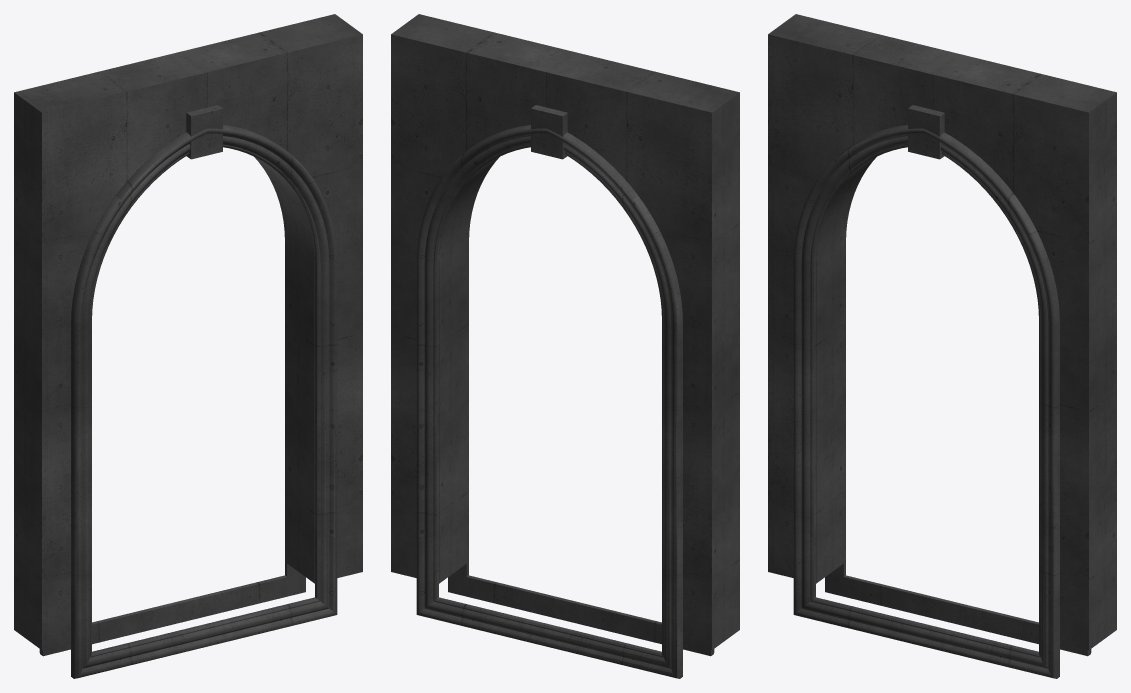
Rendered from Wall_Arch.gltf.
3 views of the same model, side by side, from view 1: azimuth 30°, elevation 25°; view 2: azimuth 150°, elevation 25°; view 3: azimuth 330°, elevation 25° (orthographic).
Parts seen in each view (by area): view 1: Wall_Arch_Wall, Wall_Arch_Trim; view 2: Wall_Arch_Wall, Wall_Arch_Trim; view 3: Wall_Arch_Wall, Wall_Arch_Trim.
Boxes of the visible parts, bbox=[...] form: Wall_Arch_Wall: bbox=[14, 14, 362, 650]; Wall_Arch_Trim: bbox=[39, 105, 337, 678]; Wall_Arch_Wall: bbox=[391, 14, 739, 650]; Wall_Arch_Trim: bbox=[416, 105, 714, 678]; Wall_Arch_Wall: bbox=[768, 14, 1116, 650]; Wall_Arch_Trim: bbox=[793, 105, 1091, 678].
Size of what is drawn, in the model's own units: 2 by 3.4 by 0.4095.
1 material, 1 textured.
